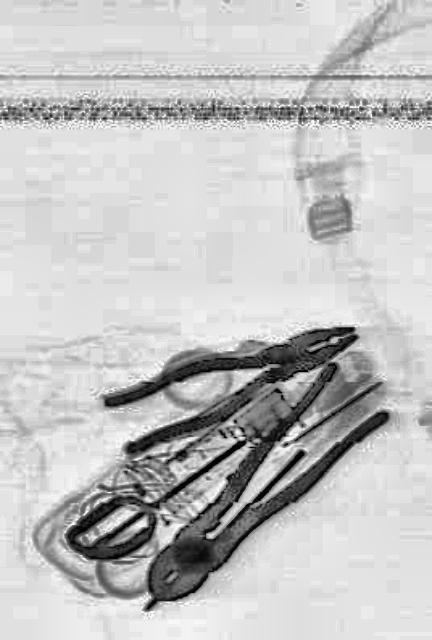Pliers: (128, 340, 388, 630), (100, 296, 362, 460)
